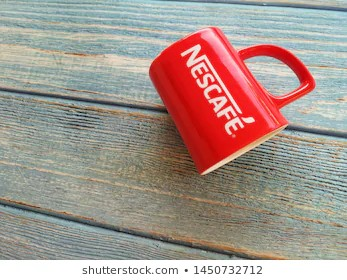nescafe-mug: (150, 27, 321, 181)
